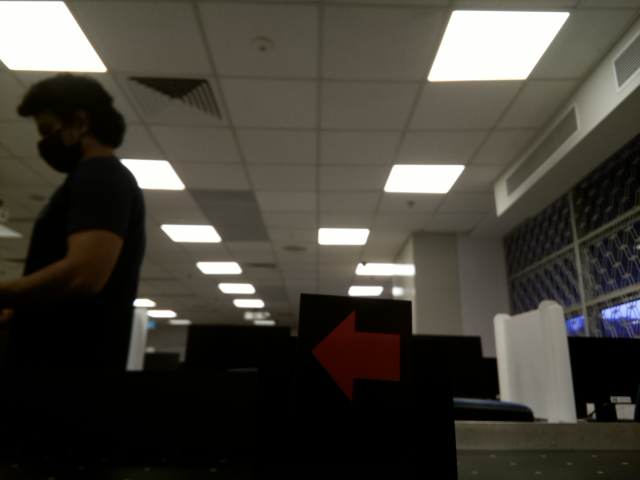left: (308, 313, 405, 402)
